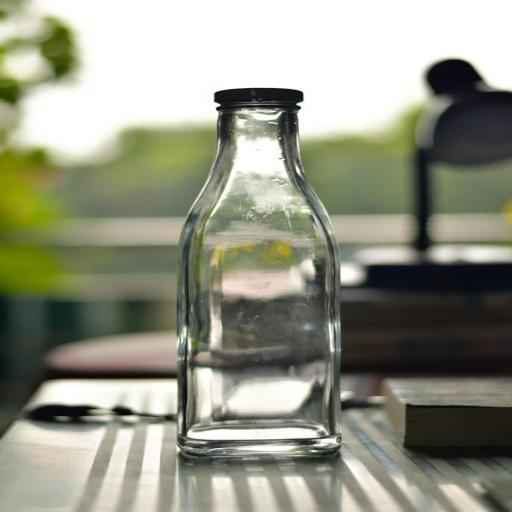bottle: (162, 72, 352, 466)
